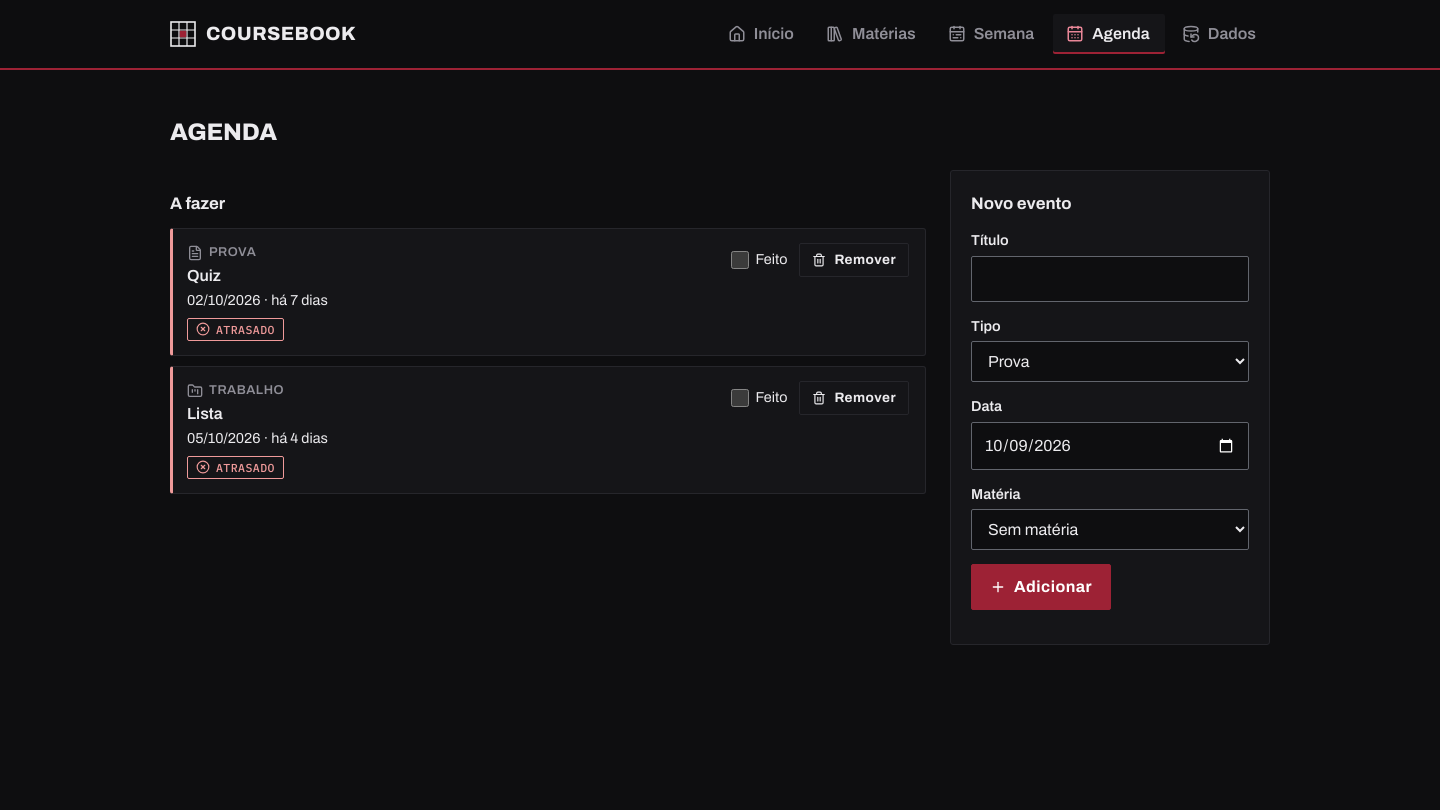
AvisoDesfazer › depois de remover, oferece desfazer e volta o item (na tela e no que foi salvo)
Click the button with aria-label "Remover Quiz".
click(854, 260)  # box [800,243,909,277]
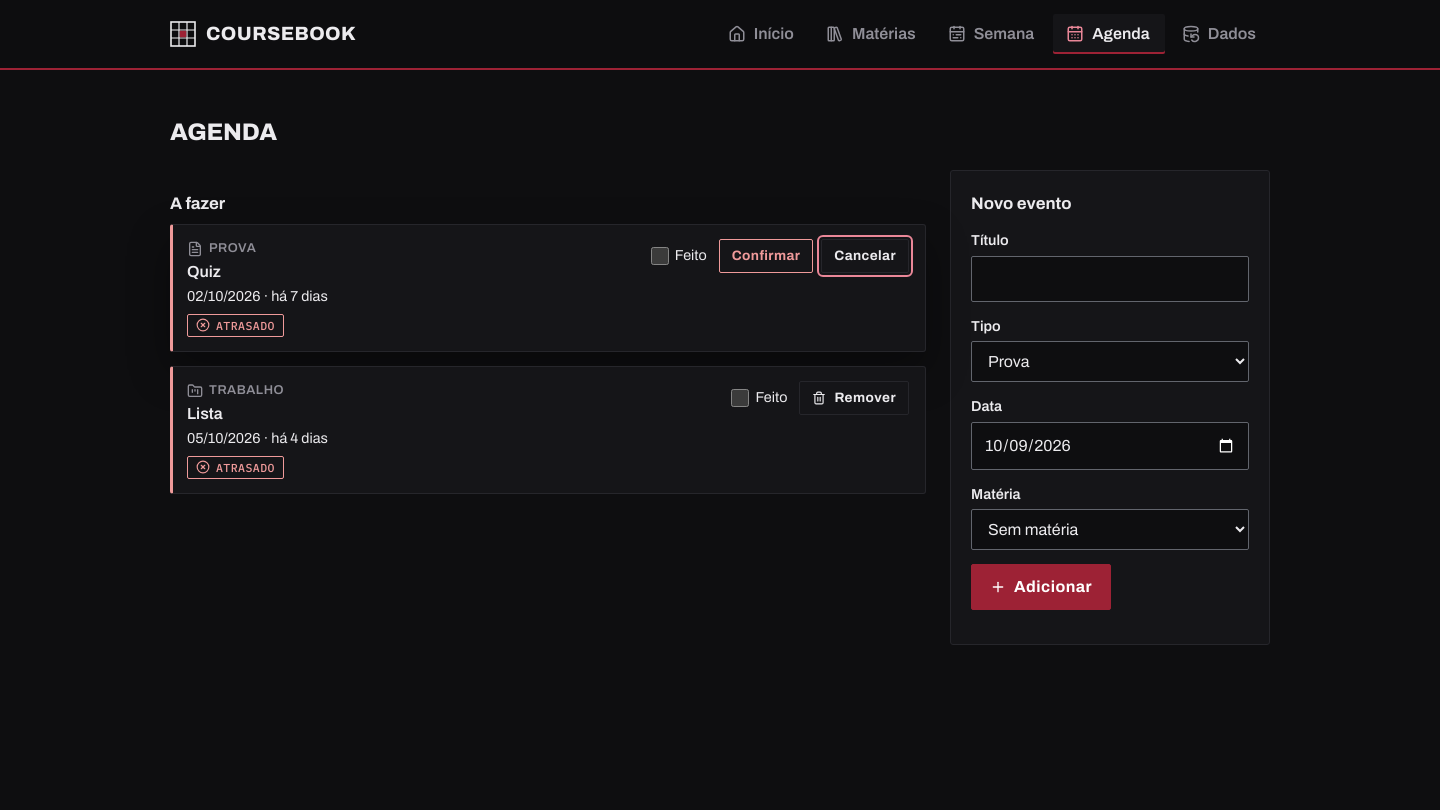
Click the button with aria-label "Confirmar remoção de Quiz".
click(766, 256)  # box [719,239,813,273]
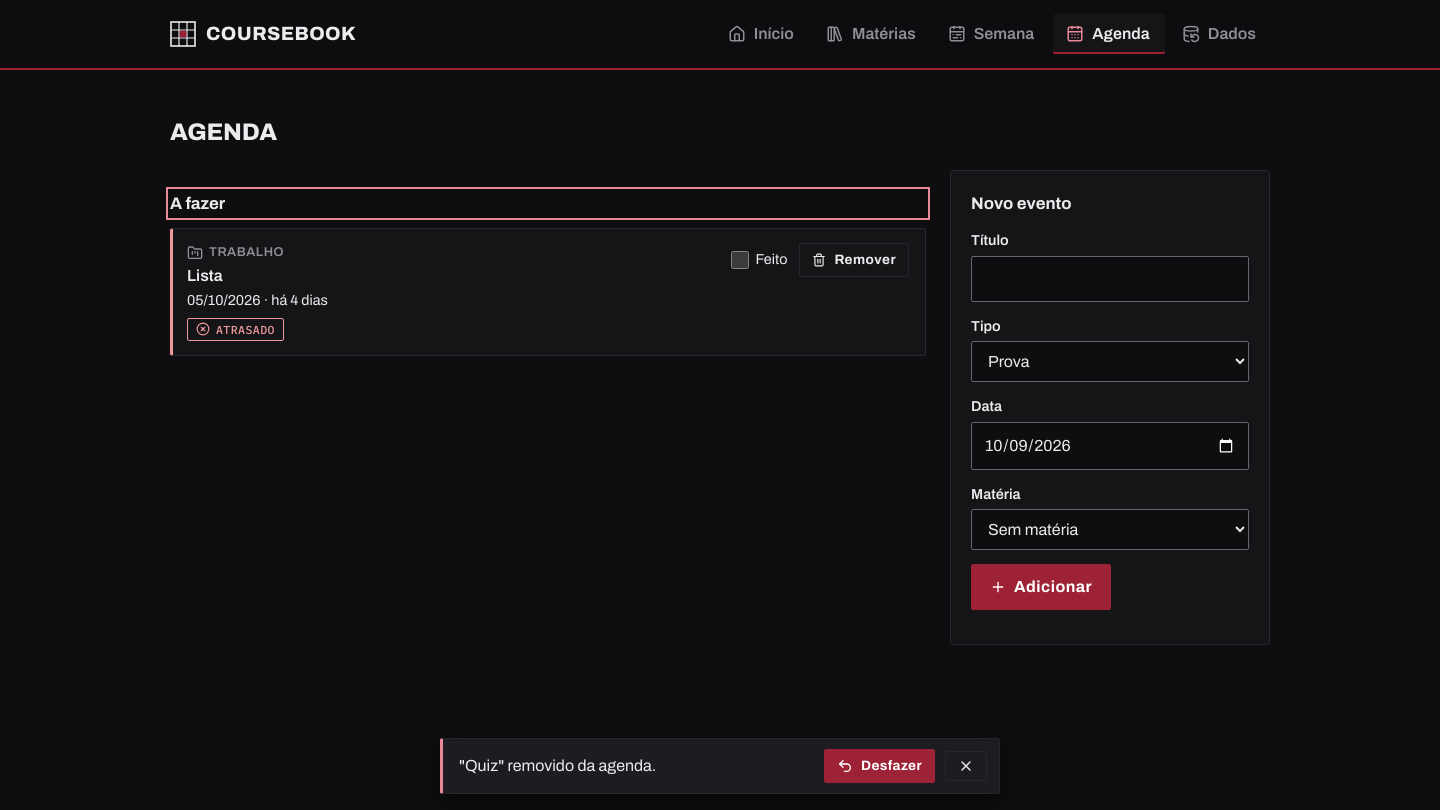
Check: the text "\"Quiz\" removido da agenda." is shown, box [459,757,656,774]
Click the button "Desfazer".
click(880, 766)  # box [824,749,935,783]
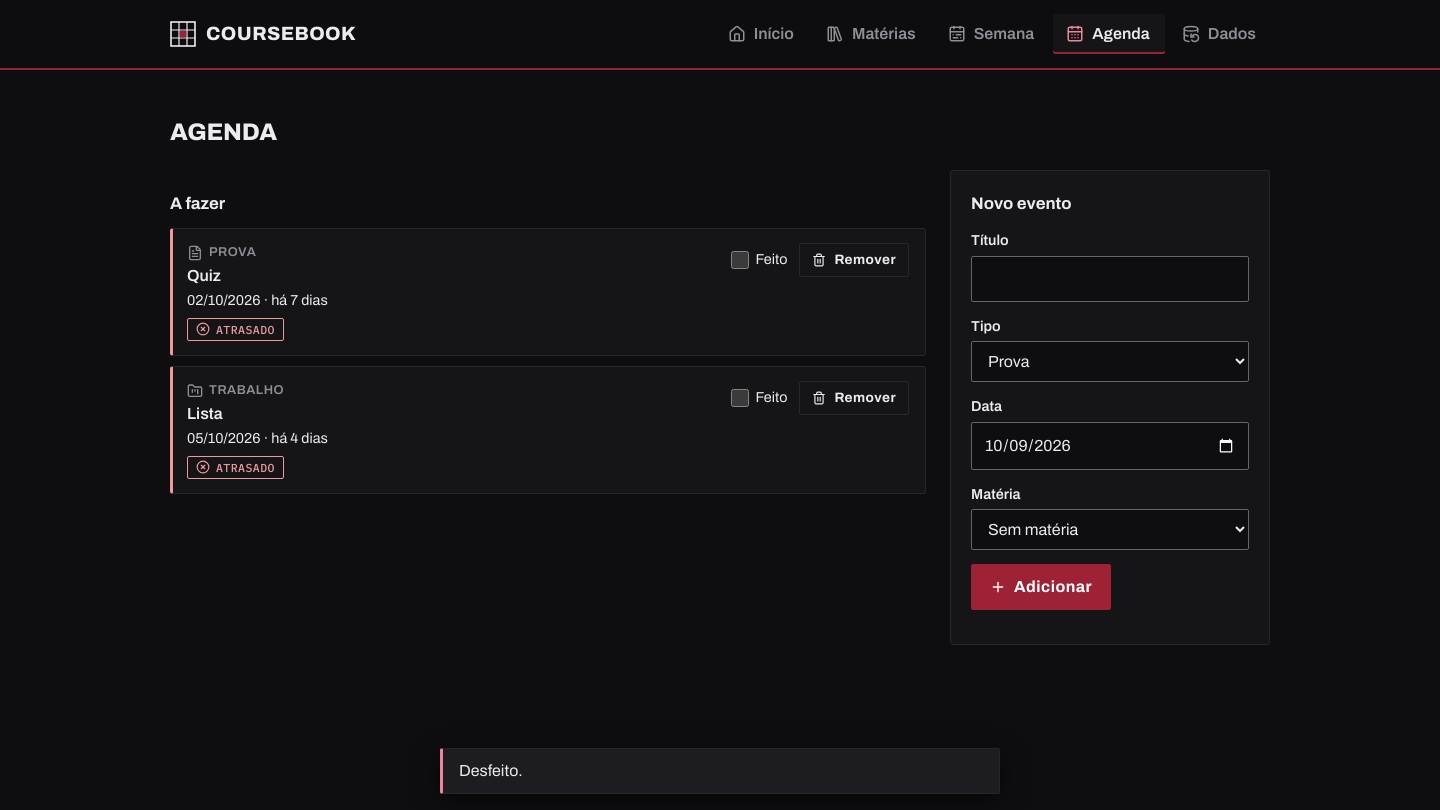
Check: the text "Quiz" is shown, box [187,264,221,288]
Check: the button "Desfazer" is gone
Check: the text "Desfeito." is shown, box [459,762,523,779]
